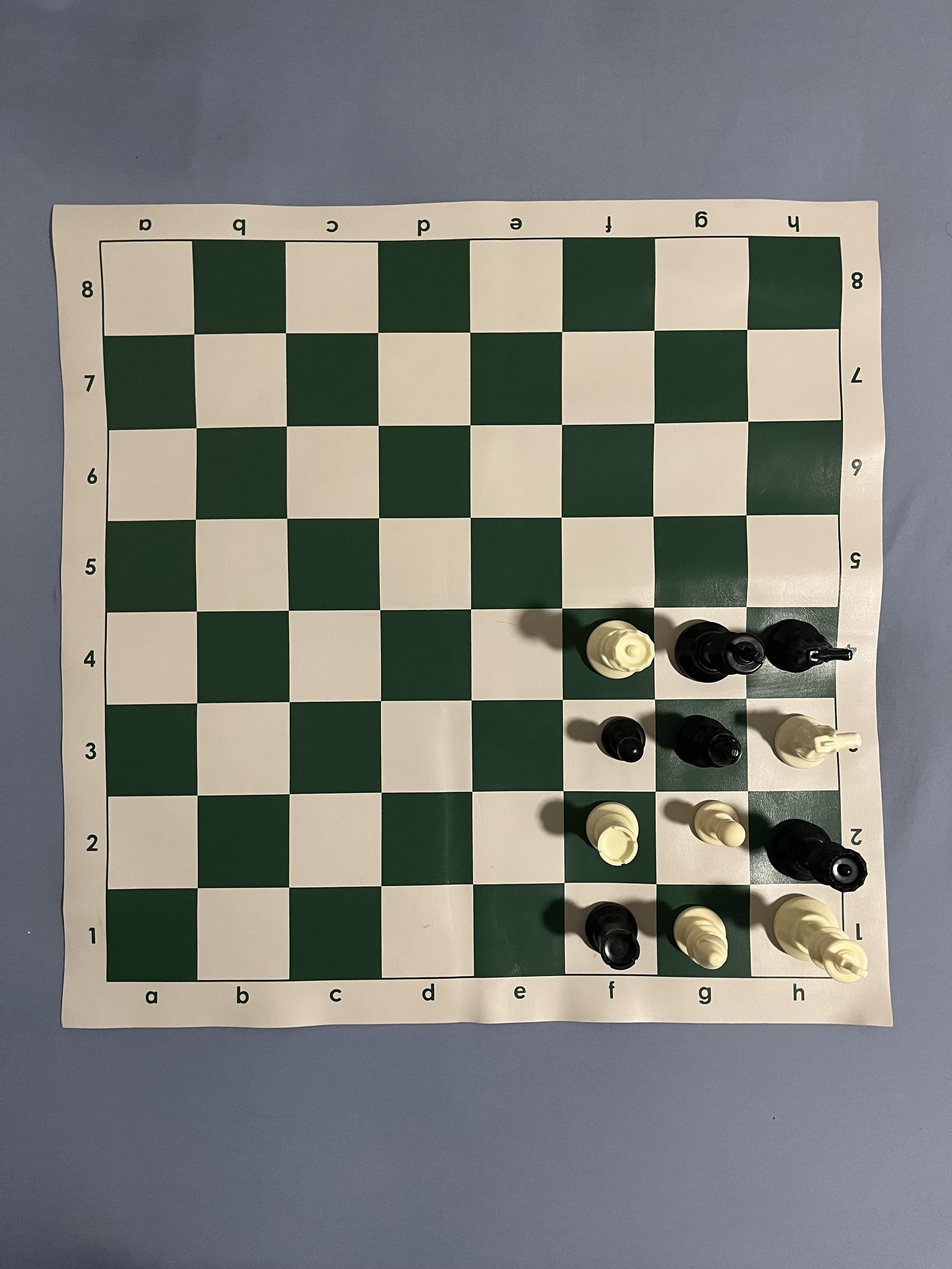black_bishop: (672, 714, 743, 770)
black_king: (674, 621, 766, 684)
black_knight: (762, 618, 855, 674)
black_pawn: (597, 716, 646, 764)
black_queen: (767, 819, 868, 894)
black_rook: (584, 900, 640, 970)
white_bishop: (672, 906, 729, 970)
white_king: (772, 895, 871, 984)
white_knight: (774, 714, 863, 769)
white_pawn: (692, 800, 747, 849)
white_queen: (586, 620, 656, 680)
white_rook: (586, 803, 640, 867)
